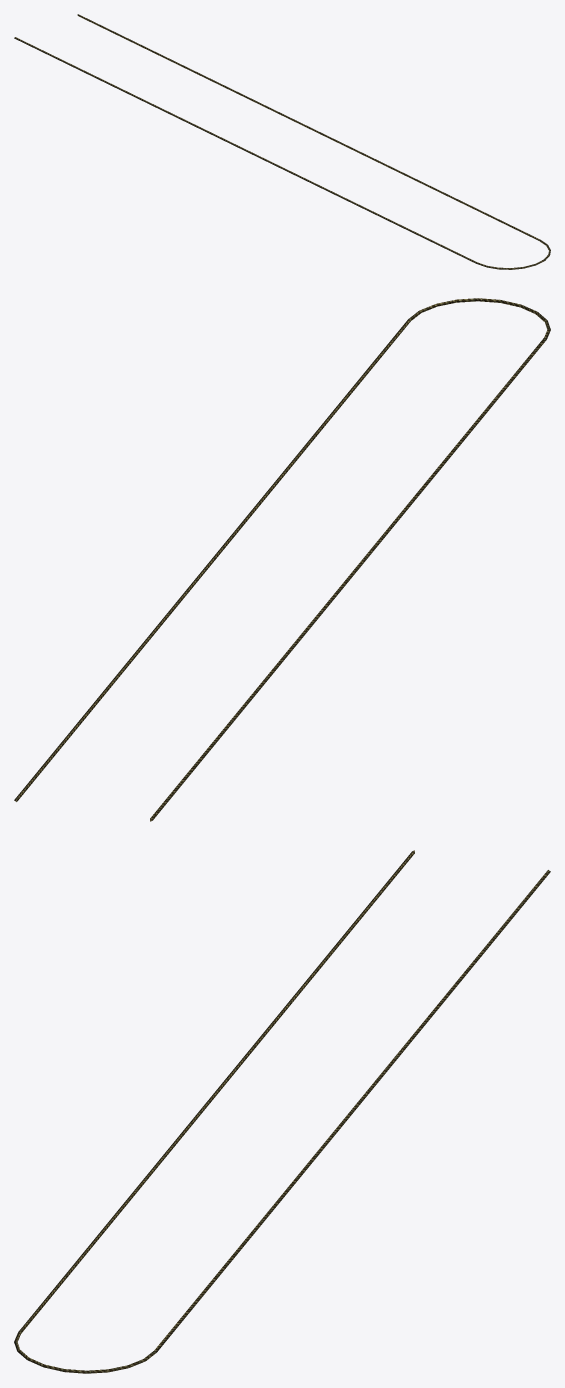
File: SWORDLIGHT20_MAINCAVROPE01CONV02.fbx
3 renders of one model, top to bottom at view 1: azimuth 30°, elevation 25°; view 2: azimuth 150°, elevation 25°; view 3: azimuth 330°, elevation 25°, orthographic. The views are drawn at different scales.
Visible parts, largest first — view 1: SWORDLIGHT20_MAINCAVROPE01CONV02; view 2: SWORDLIGHT20_MAINCAVROPE01CONV02; view 3: SWORDLIGHT20_MAINCAVROPE01CONV02.
Boxes of the visible parts, <box> form: SWORDLIGHT20_MAINCAVROPE01CONV02: <box>14,14,550,269</box>; SWORDLIGHT20_MAINCAVROPE01CONV02: <box>14,298,550,821</box>; SWORDLIGHT20_MAINCAVROPE01CONV02: <box>14,850,550,1373</box>.
Bounding box in the file's own units: 68096 × 633 × 231886.
1 material, 1 textured.
